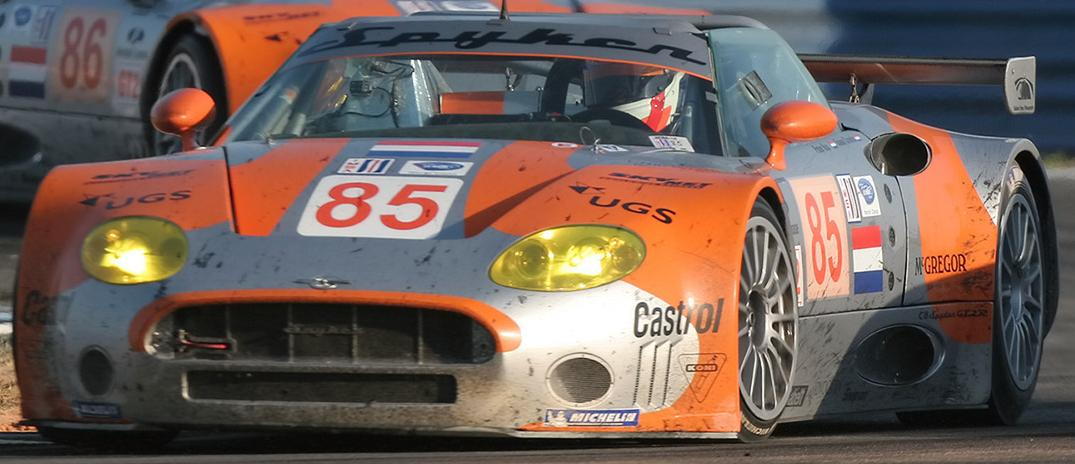front_view: (46, 163, 701, 429)
headlight: (481, 194, 645, 317)
side_glass: (696, 43, 864, 151)
